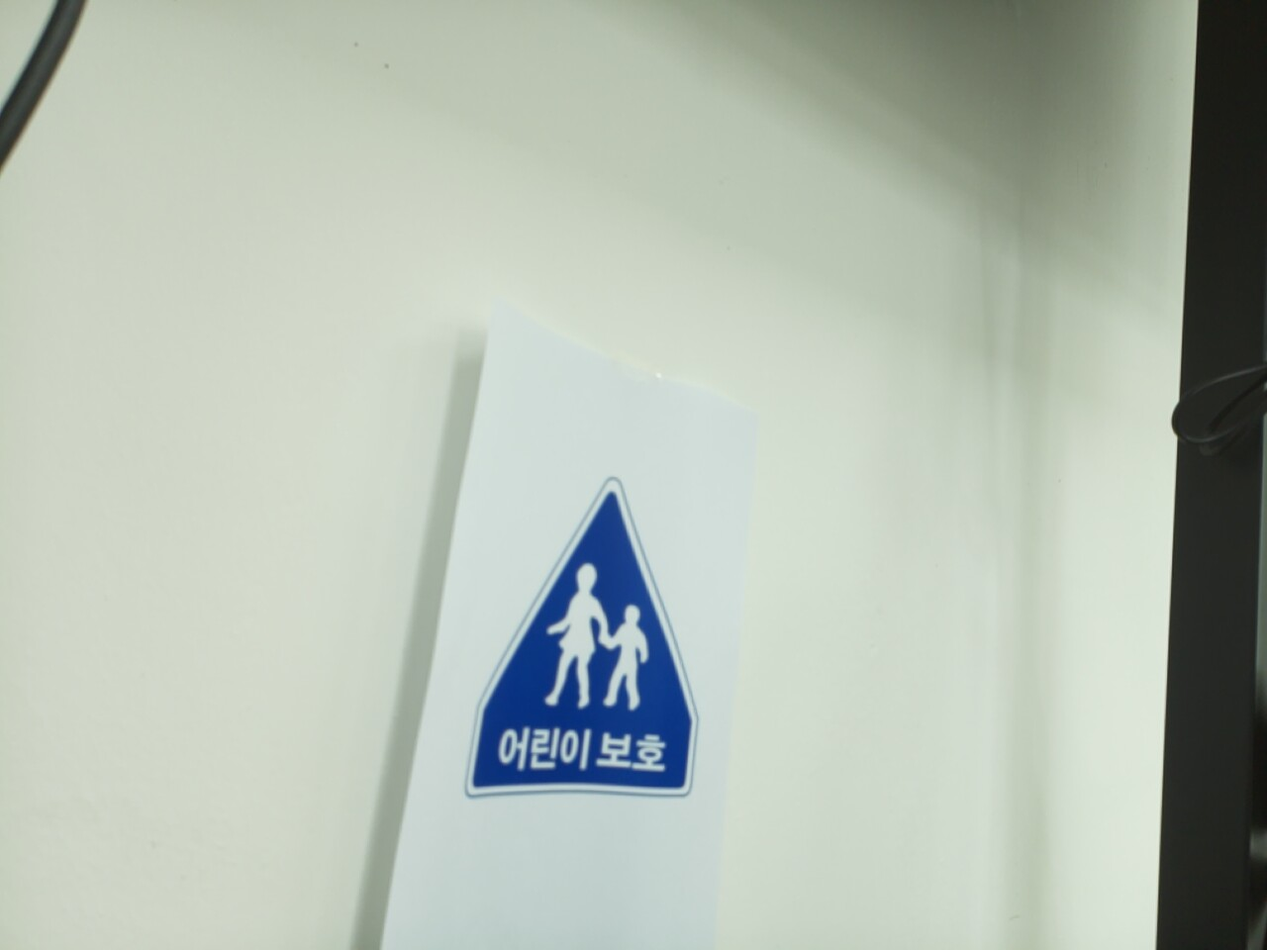school_zone: (465, 482, 700, 799)
